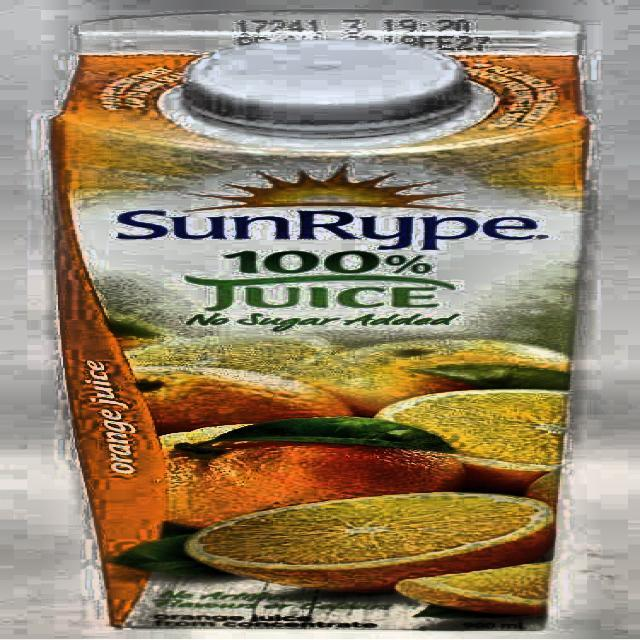cardboard: (48, 8, 596, 633)
